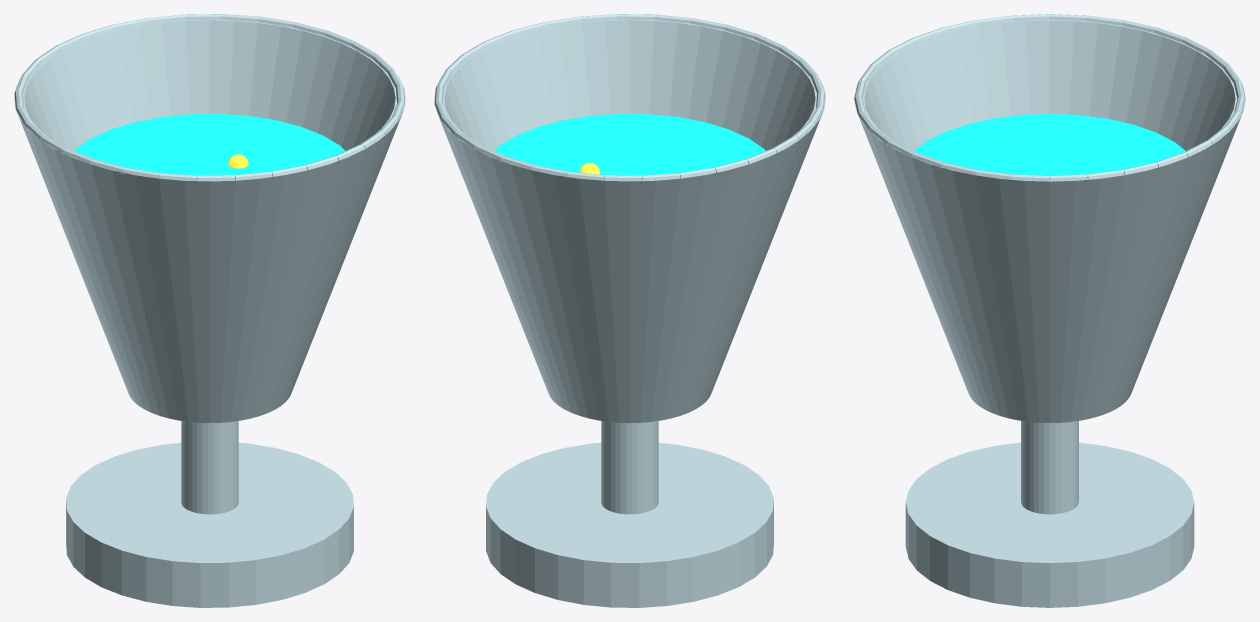
The model's file is drink_neural_mist.glb.
3 views of the same model, side by side, from view 1: azimuth 30°, elevation 25°; view 2: azimuth 150°, elevation 25°; view 3: azimuth 270°, elevation 25° (orthographic).
Parts seen in each view (by area): view 1: clear_0003, clear_0001, liquid_0004, clear_0002; view 2: clear_0003, clear_0001, liquid_0004, clear_0002; view 3: clear_0003, clear_0001, liquid_0004, clear_0002.
Part boxes in pixels (x1,y1,x2,y2): clear_0003: (14, 19, 405, 422); clear_0001: (66, 443, 353, 607); liquid_0004: (74, 113, 345, 175); clear_0002: (181, 421, 238, 514); clear_0003: (434, 19, 825, 422); clear_0001: (486, 443, 773, 607); liquid_0004: (494, 113, 765, 175); clear_0002: (601, 421, 658, 514); clear_0003: (854, 19, 1245, 422); clear_0001: (905, 442, 1194, 607); liquid_0004: (914, 113, 1185, 175); clear_0002: (1021, 421, 1078, 514).
Size of the model in its own units: 0.19 by 0.242 by 0.19.
